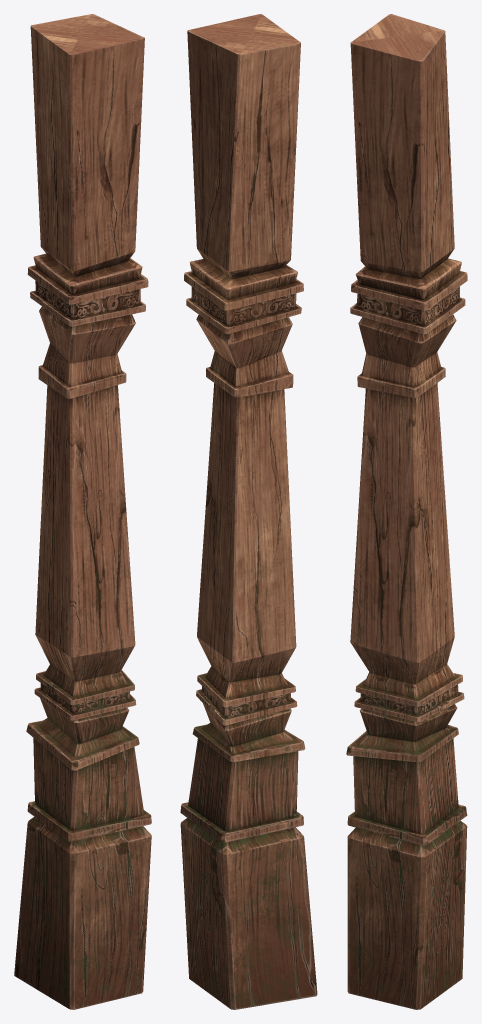
The model's file is SM_Column02.fbx.
3 renders of one model, left to right at view 1: azimuth 30°, elevation 25°; view 2: azimuth 210°, elevation 25°; view 3: azimuth 330°, elevation 25°, orthographic.
Parts seen in each view (by area): view 1: SM_Column02_LOD0; view 2: SM_Column02_LOD0; view 3: SM_Column02_LOD0.
Boxes of the visible parts, x1,y1,x2,y2 form: SM_Column02_LOD0: [14, 14, 151, 1009]; SM_Column02_LOD0: [180, 14, 317, 1009]; SM_Column02_LOD0: [346, 14, 467, 1009].
Bounding box in the file's own units: 107 × 113 × 1109.
Materials: 1 (1 with a texture image).
